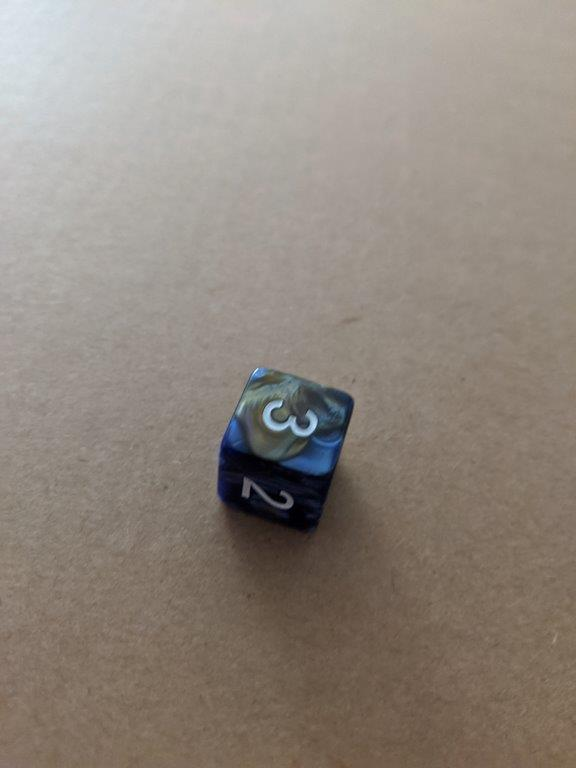d6-3: (216, 364, 357, 536)
